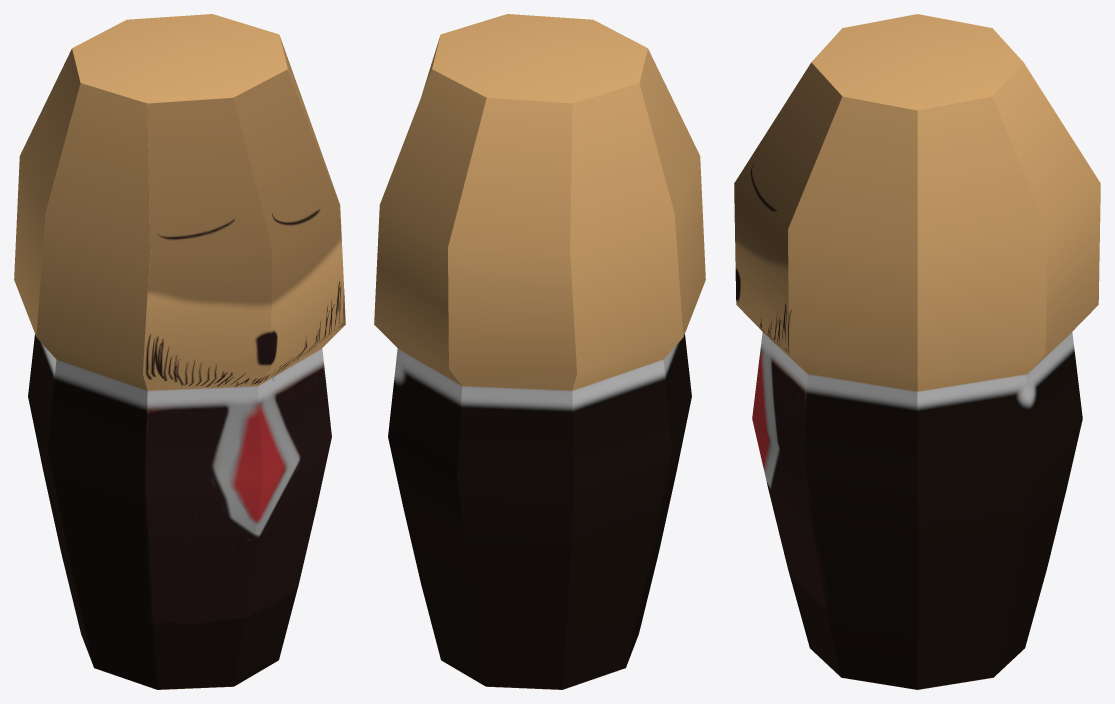
File: F_Man_Figure.fbx
3 renders of one model, left to right at view 1: azimuth 30°, elevation 25°; view 2: azimuth 150°, elevation 25°; view 3: azimuth 270°, elevation 25°, orthographic.
Parts seen in each view (by area): view 1: Man; view 2: Man; view 3: Man.
Boxes of the visible parts, x1=… form: Man: x1=14, y1=14, x2=345, y2=689; Man: x1=374, y1=14, x2=705, y2=689; Man: x1=734, y1=14, x2=1100, y2=689.
Size of the model in its own units: 18.29 by 36.4 by 20.32.
